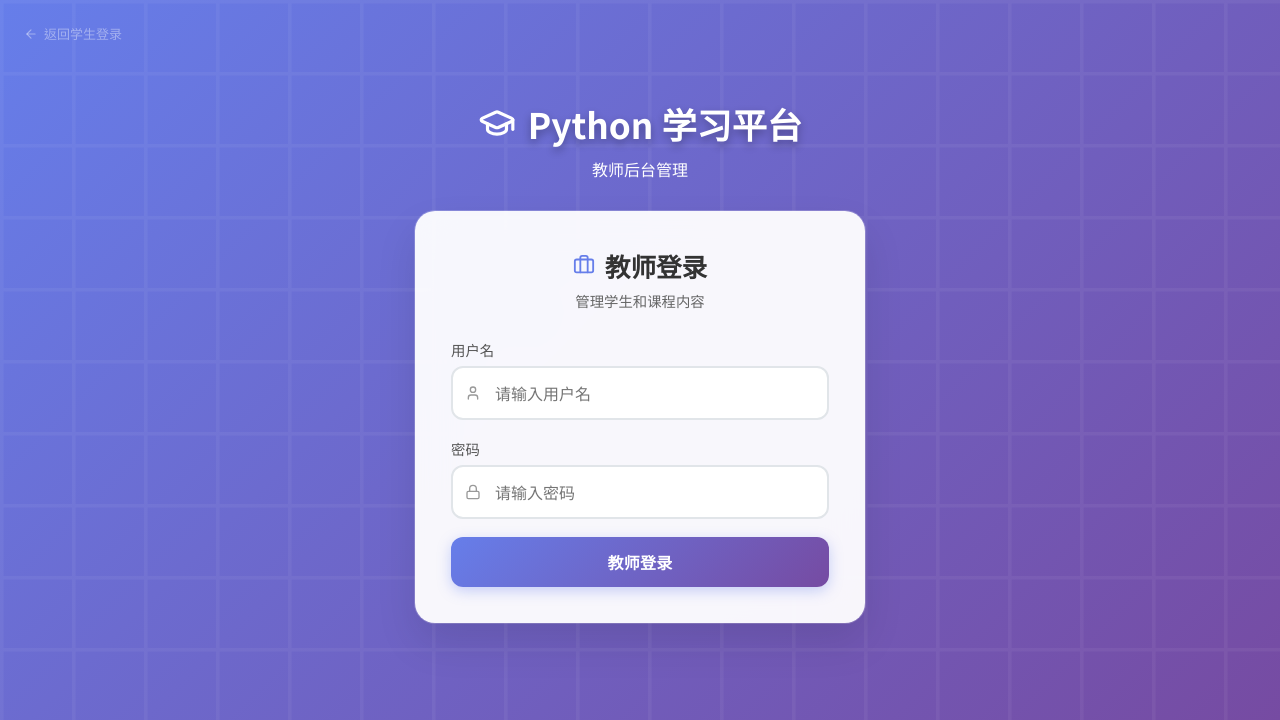
TeacherLogin.jsx › shows error on login failure
Type "alex" into the field with placeholder "请输入用户名" at (640,392), box [451,366,829,420]
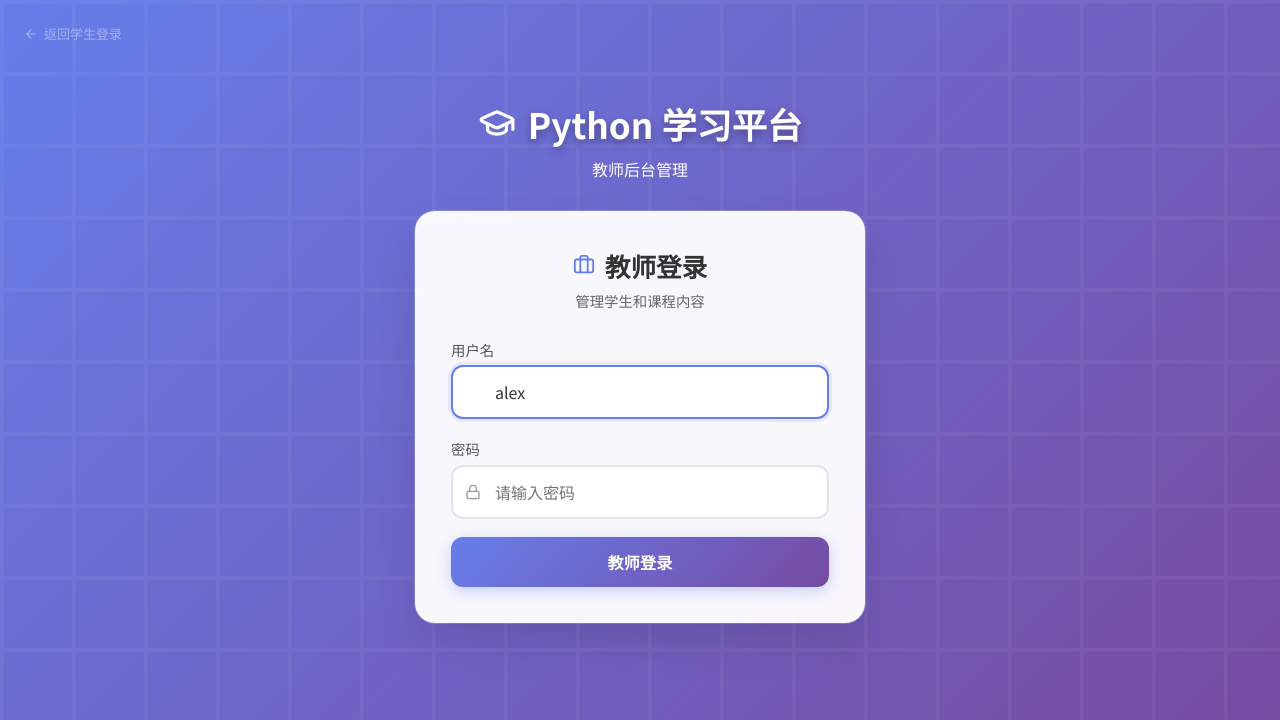
Type "wrongpassword" into the password field with placeholder "请输入密码" at (640,492), box [451,464,829,518]
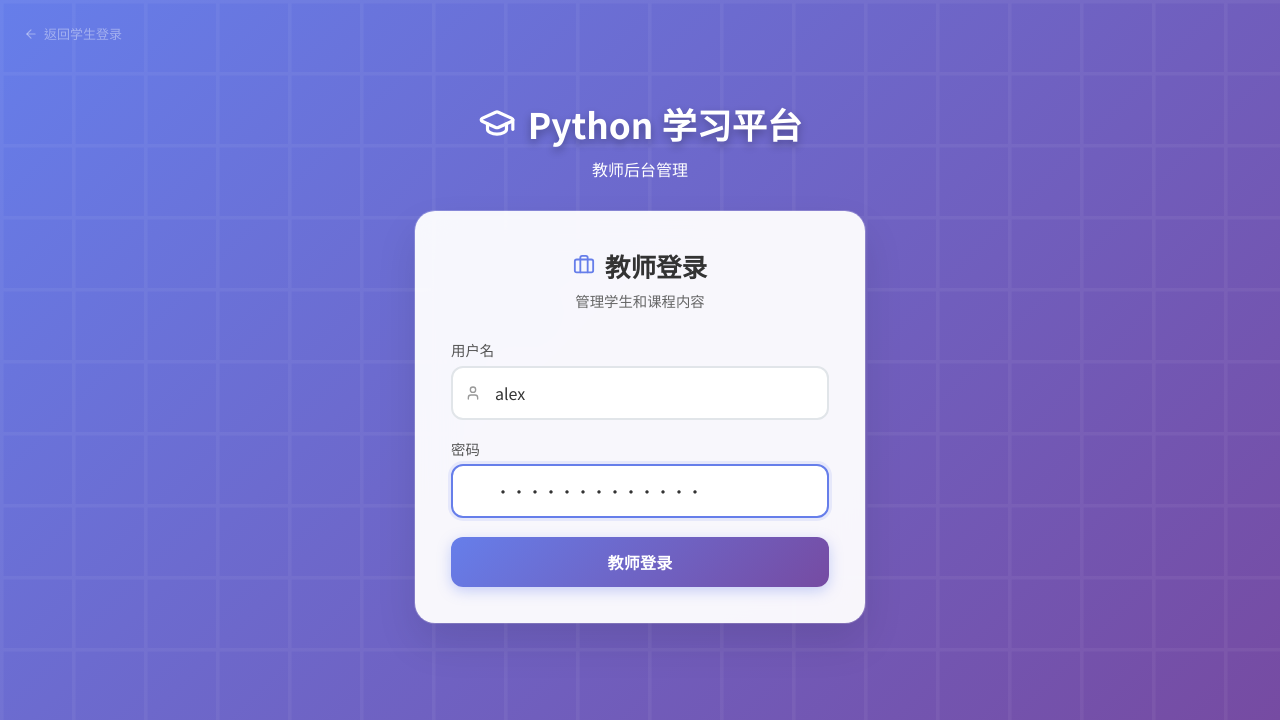
Click the button "教师登录" at (640,562), box [451,536,829,586]
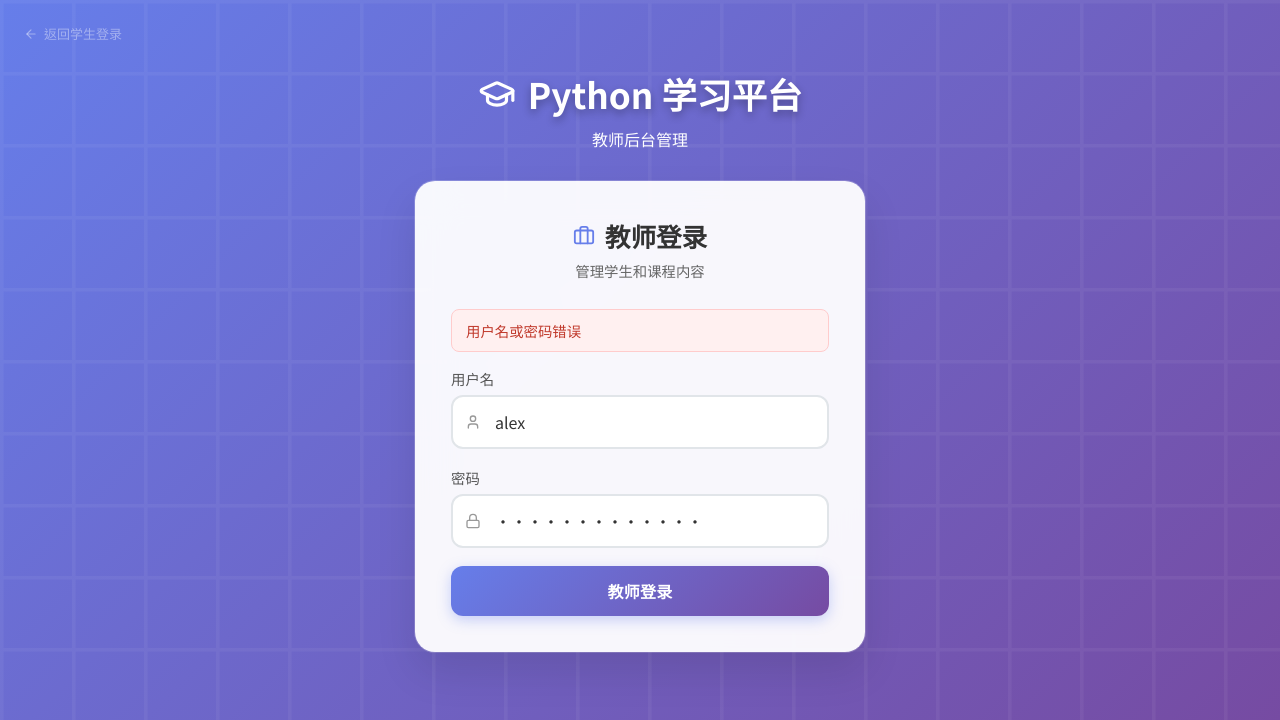
Expected: the text "用户名或密码错误" is shown, [451,309,829,352]
